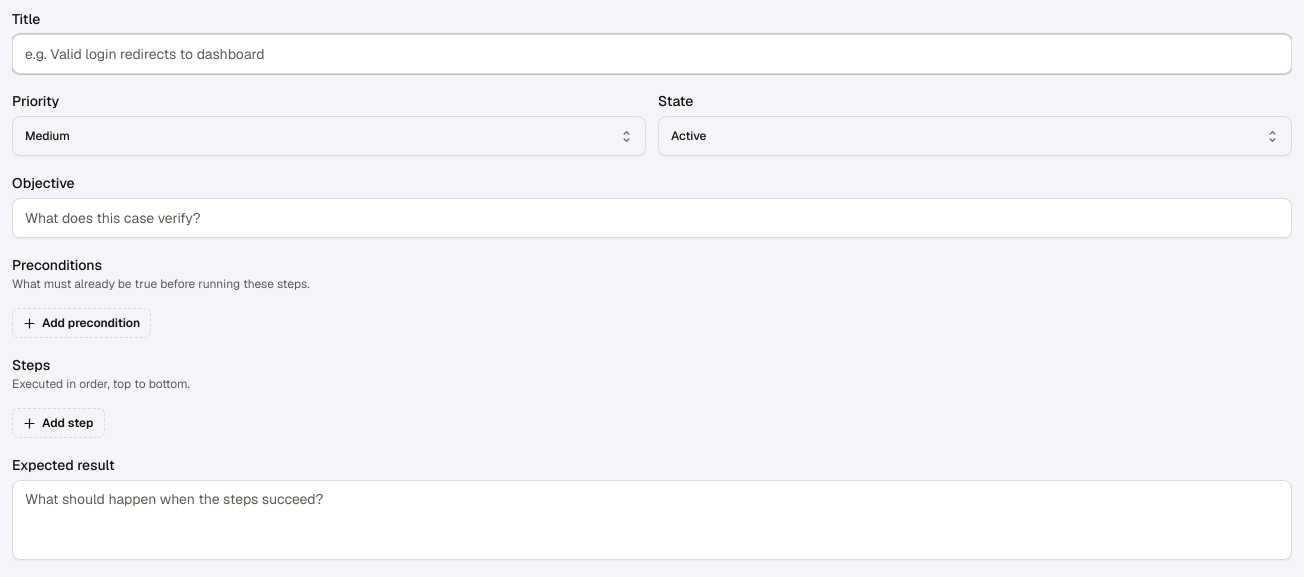
it: CaseFields › changes state through its select
The width and height of the screenshot is (1304, 577).
Click the dropdown named "State".
click(689, 136)  # box [658,116,1292,156]
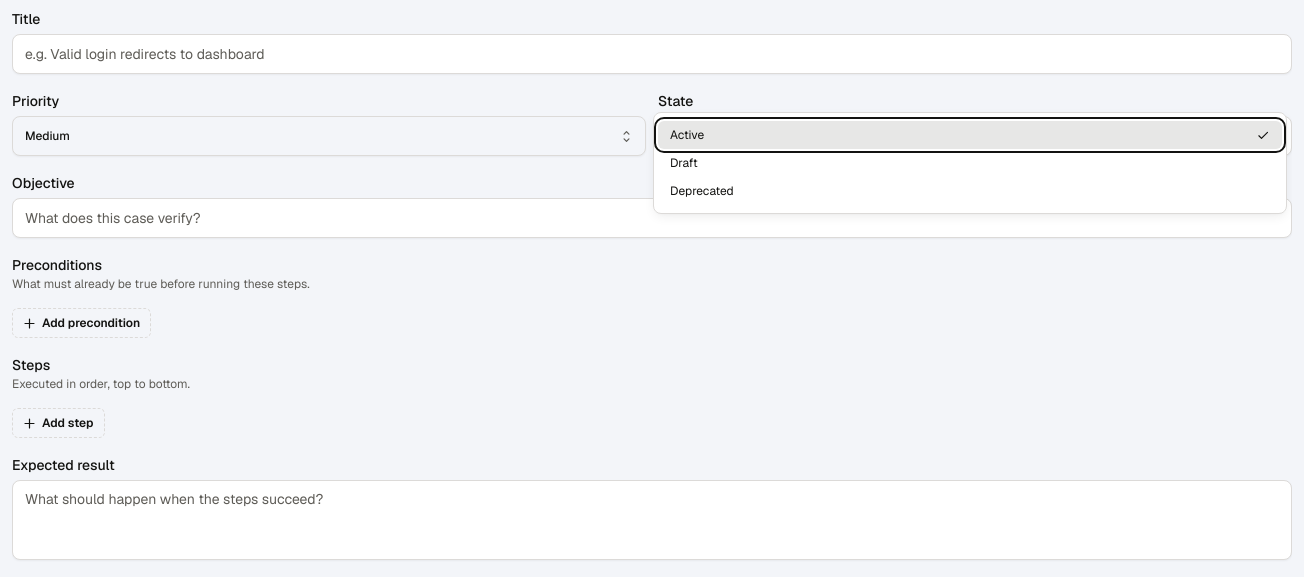
Click the option "Draft".
click(684, 163)  # box [670,155,698,171]
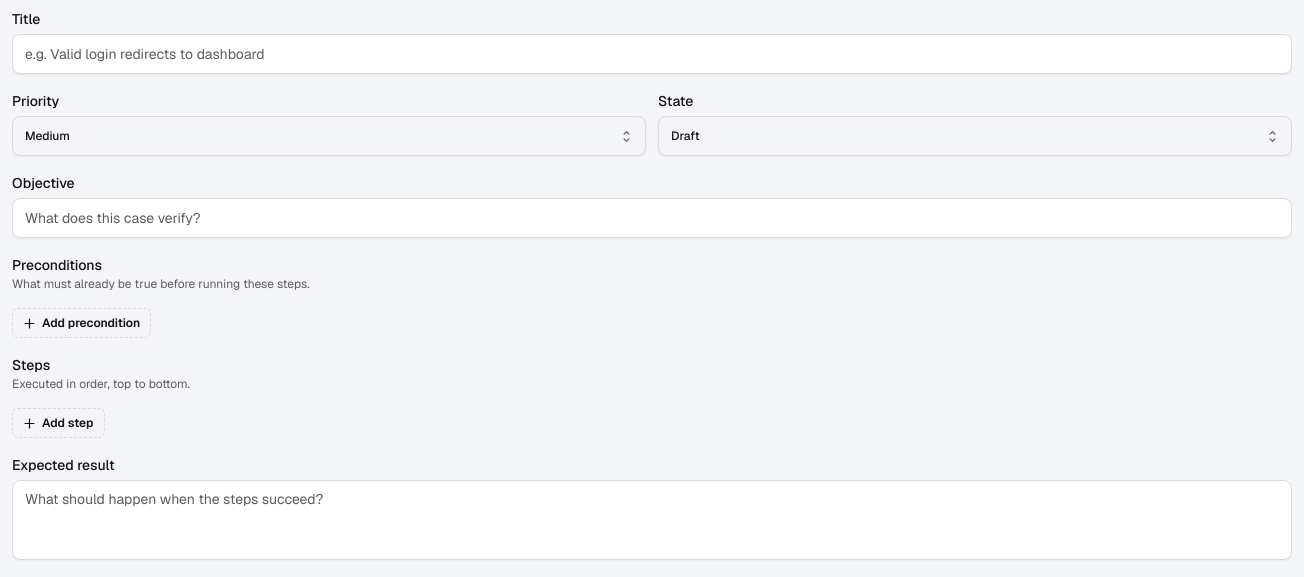
Expected: the dropdown named "State" reads "Draft", [658,116,1292,156]
